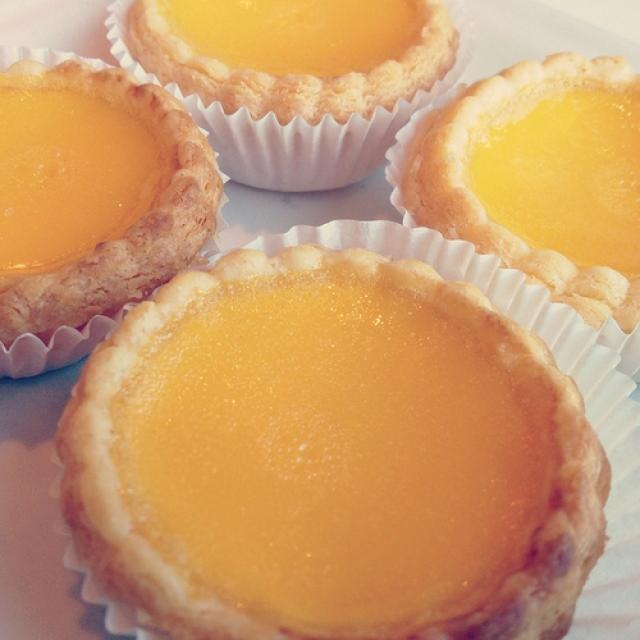炸货点心: (9, 15, 631, 626)
蛋糕甜品: (9, 15, 631, 626)
